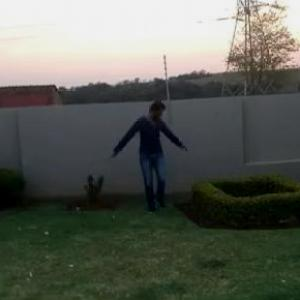land: (102, 96, 196, 227)
